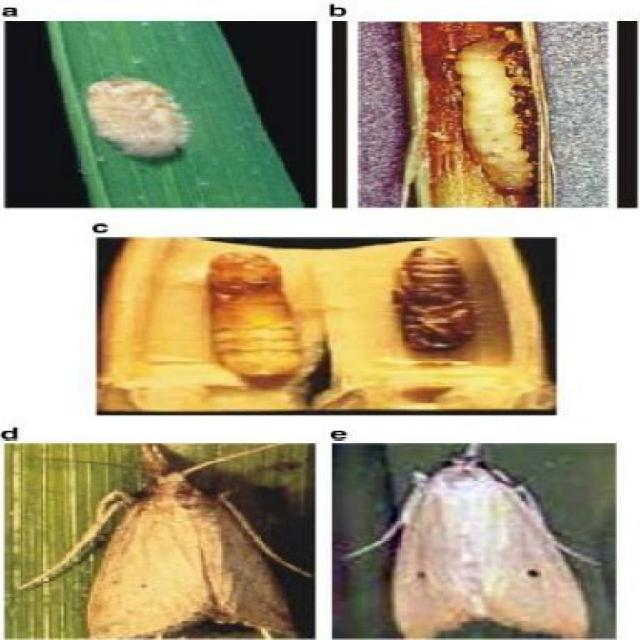stem-borer: (44, 444, 300, 640), (349, 444, 603, 640)
